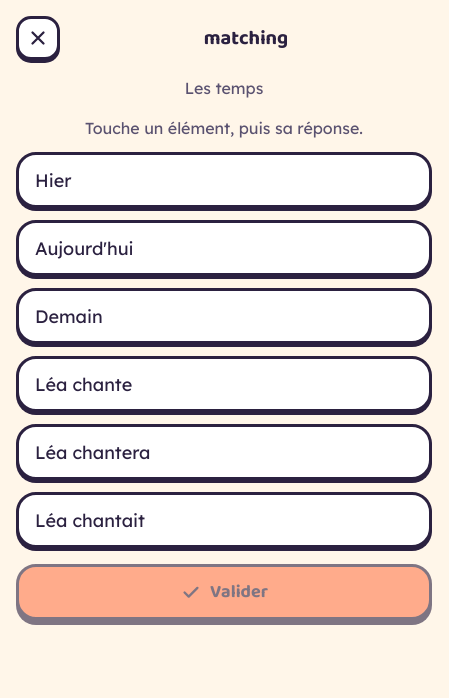
GameScreen, matching › an answer used again moves to its new item; an item paired again takes its new answer
Click the button "Hier" at (53, 180), box top-left (16, 152), bottom-right (432, 208)
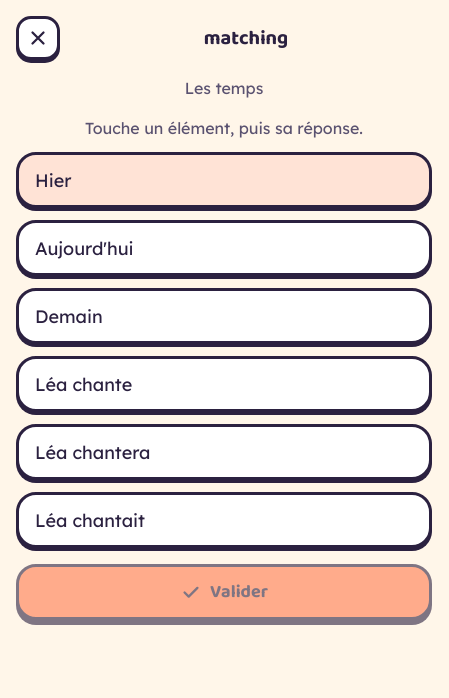
Click the button "Léa chante" at (84, 384), box top-left (16, 356), bottom-right (432, 412)
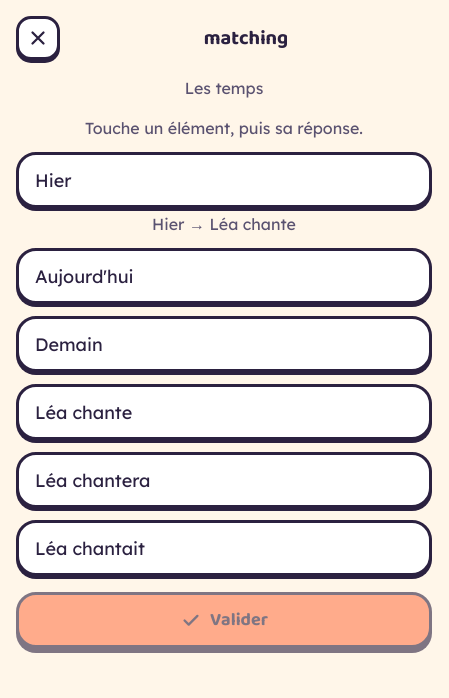
Click the button "Demain" at (69, 344), box top-left (16, 316), bottom-right (432, 372)
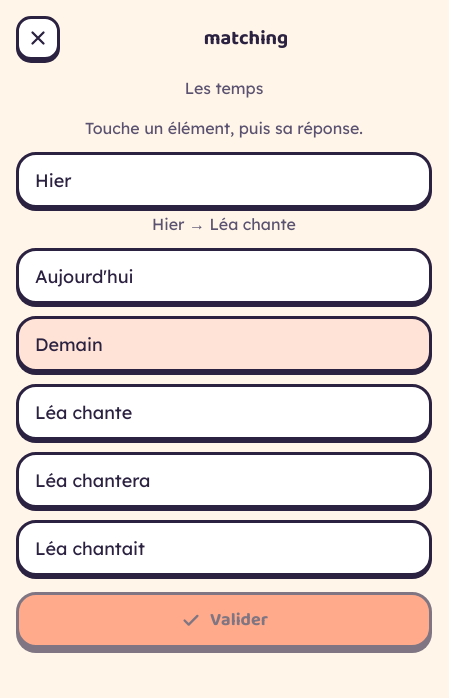
Click the button "Léa chante" at (84, 412), box top-left (16, 384), bottom-right (432, 440)
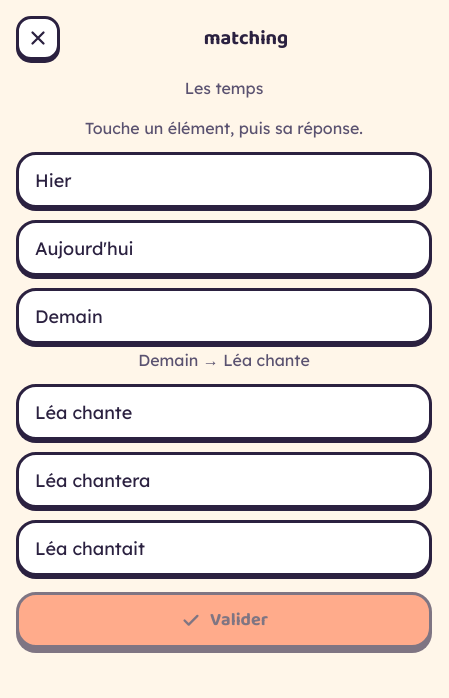
Click the button "Hier" at (53, 180), box top-left (16, 152), bottom-right (432, 208)
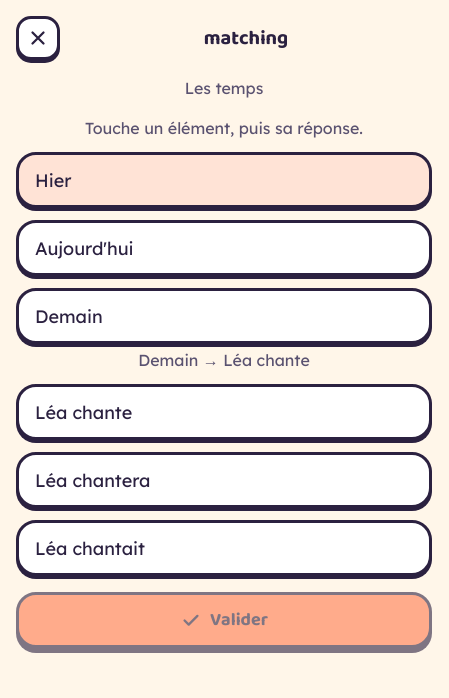
Click the button "Léa chantait" at (90, 548), box top-left (16, 520), bottom-right (432, 576)
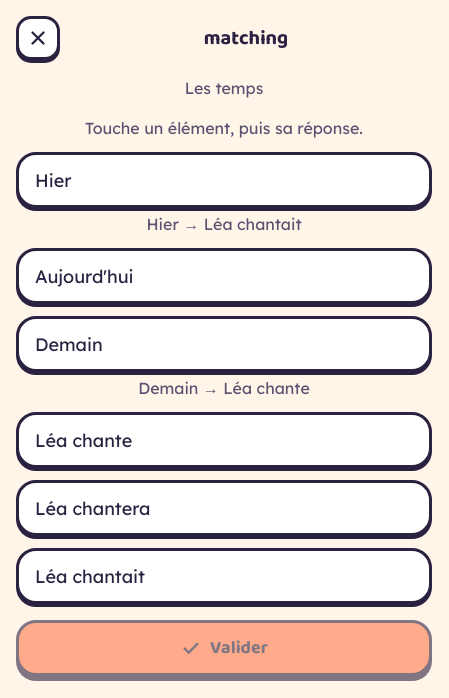
Expected: the text "Demain → Léa chante" is shown, top-left (138, 378), bottom-right (310, 398)
Expected: the text "Hier → Léa chantait" is shown, top-left (146, 214), bottom-right (302, 234)
